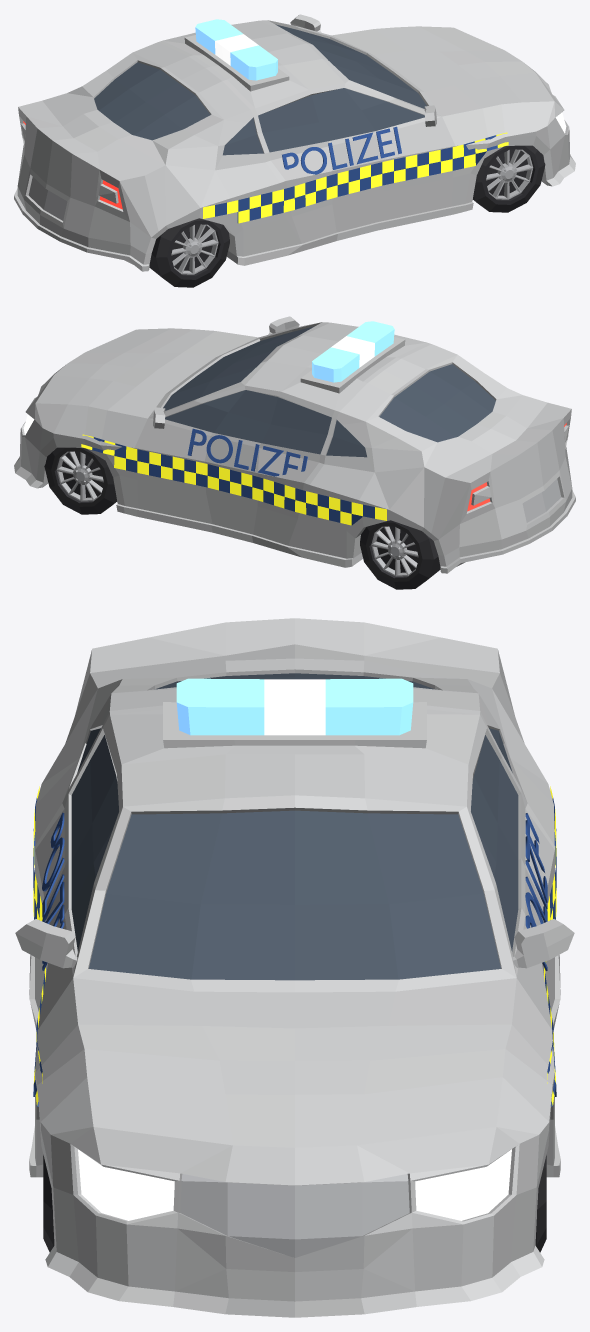
Rendered from th50_streife.glb.
The picture shows the model from 3 angles, top to bottom: view 1: azimuth 30°, elevation 25°; view 2: azimuth 150°, elevation 25°; view 3: azimuth 270°, elevation 25°; orthographic projection. The views are drawn at different scales.
Visible parts, largest first — view 1: Karosserie, Karomuster, Rad_HR, Rad_VR, Blaulichtbalken, Schrift.001; view 2: Karosserie, Karomuster, Rad_HL, Rad_VL, Blaulichtbalken, Schrift; view 3: Karosserie, Blaulichtbalken, Karomuster, Schrift, Schrift.001.
Boxes of the visible parts, x1,y1,x2,y2 form: Karosserie: [14, 14, 575, 271]; Karomuster: [203, 132, 508, 223]; Rad_HR: [149, 218, 229, 287]; Rad_VR: [472, 145, 545, 212]; Blaulichtbalken: [195, 19, 277, 80]; Schrift.001: [282, 126, 401, 174]; Karosserie: [14, 316, 575, 573]; Karomuster: [81, 434, 386, 525]; Rad_HL: [360, 520, 440, 589]; Rad_VL: [44, 447, 117, 514]; Blaulichtbalken: [312, 321, 394, 382]; Schrift: [187, 428, 307, 476]; Karosserie: [15, 618, 574, 1317]; Blaulichtbalken: [176, 678, 413, 735]; Karomuster: [33, 786, 556, 1106]; Schrift: [525, 813, 547, 970]; Schrift.001: [42, 812, 64, 970].
Size of the model in its own units: 3.73 by 1.24 by 1.78.
